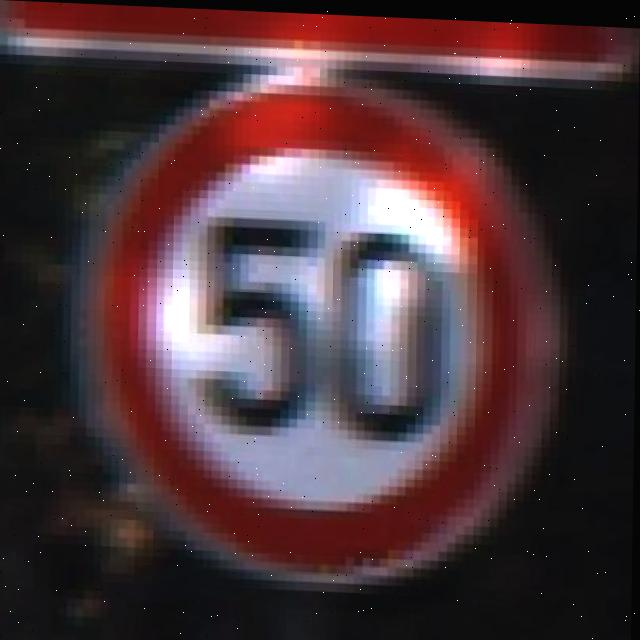Speed limit 50: (79, 68, 572, 591)
